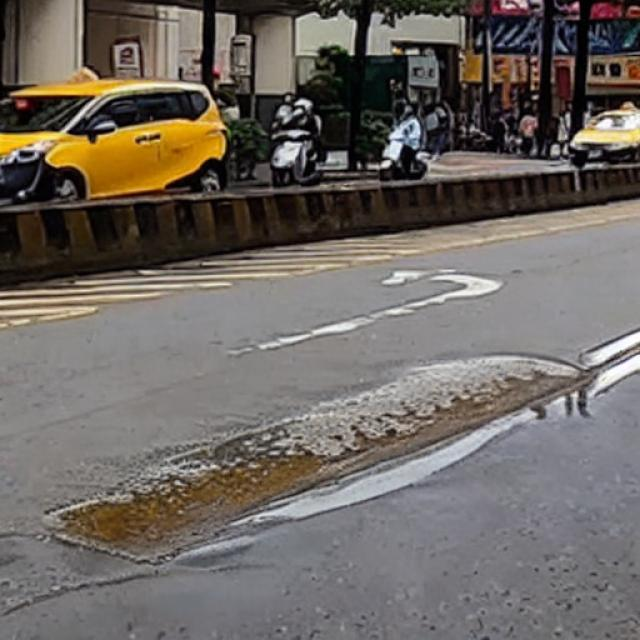puddle: (56, 356, 587, 554)
